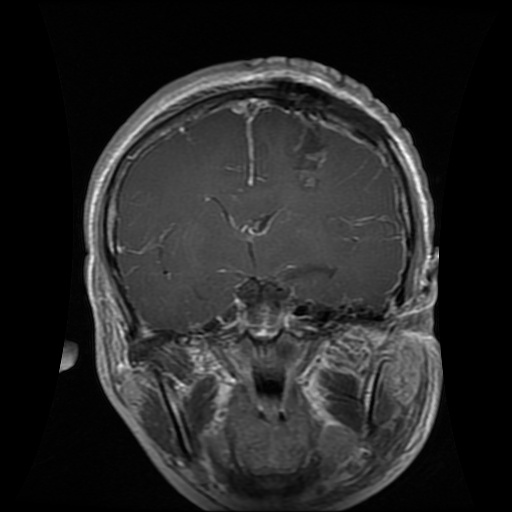glioma: (283, 111, 330, 191)
